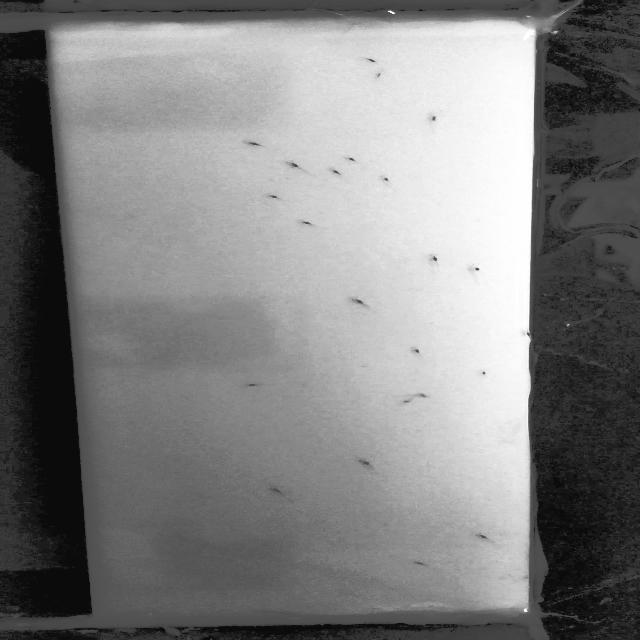shrimp: (283, 159, 322, 178), (353, 456, 382, 478), (350, 296, 380, 313), (469, 263, 492, 283), (475, 529, 501, 545), (411, 343, 434, 361), (239, 138, 278, 148), (269, 482, 292, 498), (367, 66, 389, 80), (341, 151, 363, 164), (376, 174, 398, 187), (407, 390, 435, 400), (428, 253, 446, 268), (406, 558, 433, 568), (327, 168, 349, 180), (472, 364, 492, 377), (266, 194, 287, 206), (242, 381, 266, 391), (398, 397, 426, 404), (424, 115, 445, 124), (365, 54, 380, 66), (300, 223, 323, 230)
